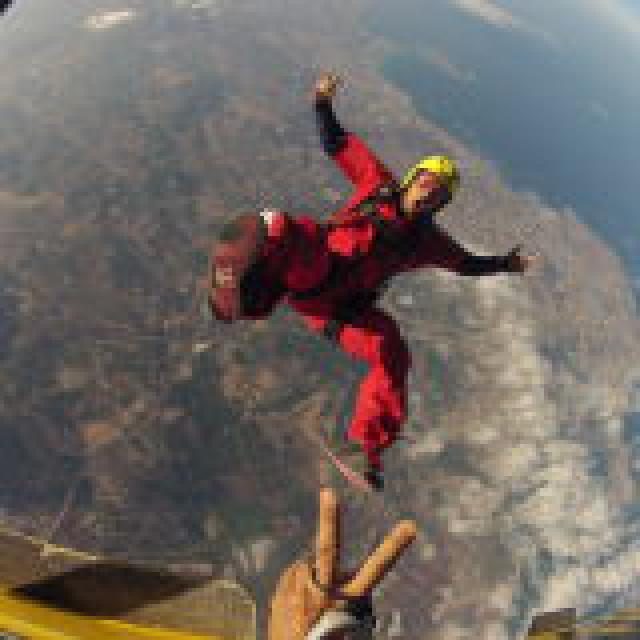fall: (215, 70, 535, 495)
